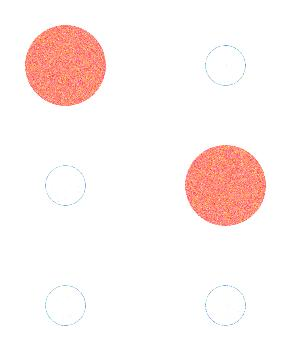E: (19, 18, 271, 335)
